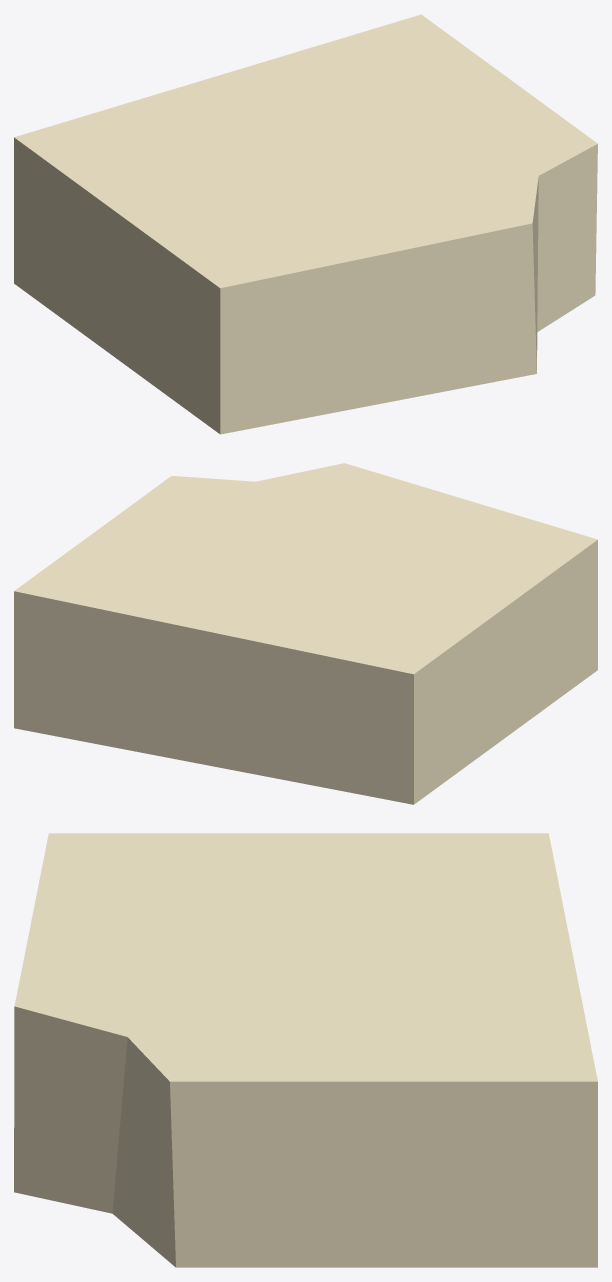
The model's file is Destroy_Plate_2.fbx.
3 views of the same model, one above another, from view 1: azimuth 30°, elevation 25°; view 2: azimuth 150°, elevation 25°; view 3: azimuth 270°, elevation 25° (orthographic). The views are drawn at different scales.
Visible parts, largest first — view 1: Destroy_Plate_2; view 2: Destroy_Plate_2; view 3: Destroy_Plate_2.
Boxes of the visible parts, x1,y1,x2,y2 form: Destroy_Plate_2: [14, 14, 597, 434]; Destroy_Plate_2: [14, 463, 597, 804]; Destroy_Plate_2: [14, 833, 597, 1267].
Bounding box in the file's own units: 300 × 103 × 293.
